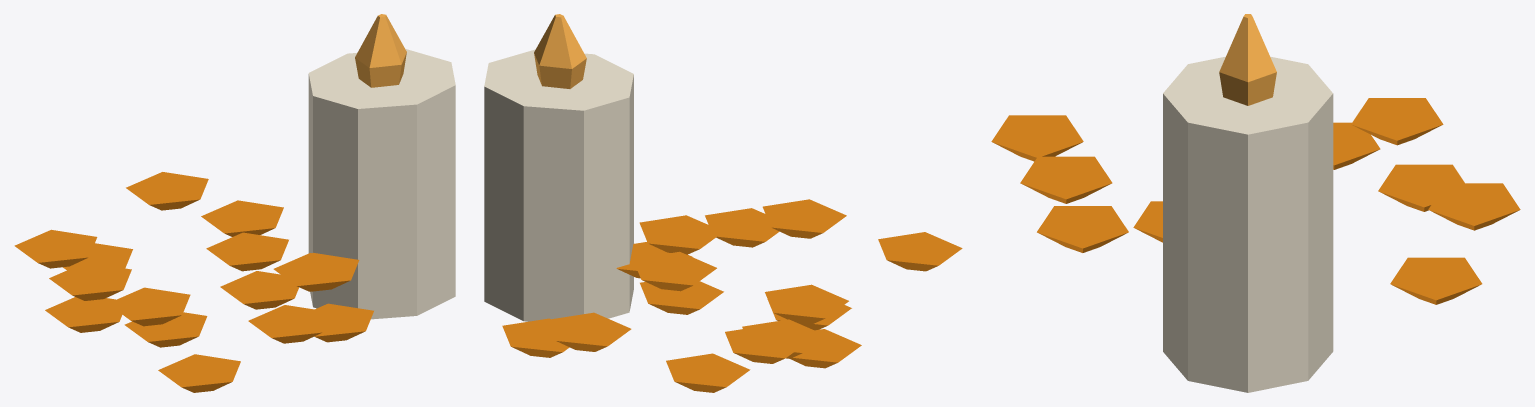
File: petal_cairn.glb
3 renders of one model, left to right at view 1: azimuth 30°, elevation 25°; view 2: azimuth 150°, elevation 25°; view 3: azimuth 270°, elevation 25°, orthographic. The views are drawn at different scales.
Parts seen in each view (by area): view 1: Veladora, Llama, Pétalo.004, Pétalo.005, Pétalo.007, Pétalo.008, Pétalo.014, Pétalo.011, Pétalo.001, Pétalo.002, Pétalo.003, Pétalo (+4 smaller); view 2: Veladora, Llama, Pétalo.006, Pétalo.007, Pétalo.014, Pétalo.002, Pétalo.011, Pétalo.008, Pétalo.004, Pétalo.005, Pétalo.010, Pétalo (+5 smaller); view 3: Veladora, Llama, Pétalo.002, Pétalo.003, Pétalo.011, Pétalo.014, Pétalo.010, Pétalo.007, Pétalo.006, Pétalo.001, Pétalo.005.
Part boxes in pixels (x1,y1,x2,y2): Veladora: [308, 49, 455, 319]; Llama: [355, 14, 406, 87]; Pétalo.004: [107, 287, 190, 326]; Pétalo.005: [276, 252, 359, 291]; Pétalo.007: [158, 354, 240, 392]; Pétalo.008: [206, 232, 288, 271]; Pétalo.014: [14, 229, 97, 268]; Pétalo.011: [126, 172, 208, 210]; Pétalo.001: [49, 262, 131, 300]; Pétalo.002: [248, 305, 330, 343]; Pétalo.003: [201, 200, 283, 236]; Pétalo: [220, 271, 298, 309]; Veladora: [484, 49, 633, 321]; Llama: [534, 14, 586, 88]; Pétalo.006: [666, 353, 750, 392]; Pétalo.007: [878, 232, 962, 271]; Pétalo.014: [725, 324, 808, 363]; Pétalo.002: [762, 199, 846, 238]; Pétalo.011: [547, 312, 631, 351]; Pétalo.008: [633, 251, 716, 291]; Pétalo.004: [765, 284, 848, 324]; Pétalo.005: [639, 215, 723, 254]; Pétalo.010: [705, 208, 779, 247]; Pétalo: [640, 281, 723, 314]; Veladora: [1163, 56, 1333, 392]; Llama: [1219, 14, 1276, 105]; Pétalo.002: [1020, 156, 1112, 203]; Pétalo.003: [1390, 257, 1482, 304]; Pétalo.011: [1428, 183, 1520, 230]; Pétalo.014: [1351, 98, 1443, 145]; Pétalo.010: [1037, 206, 1128, 252]; Pétalo.007: [991, 115, 1083, 161]; Pétalo.006: [1378, 164, 1464, 211]; Pétalo.001: [1333, 122, 1380, 169]; Pétalo.005: [1133, 201, 1162, 242].
Bounding box in the file's own units: 0.5 × 0.35 × 0.5.
